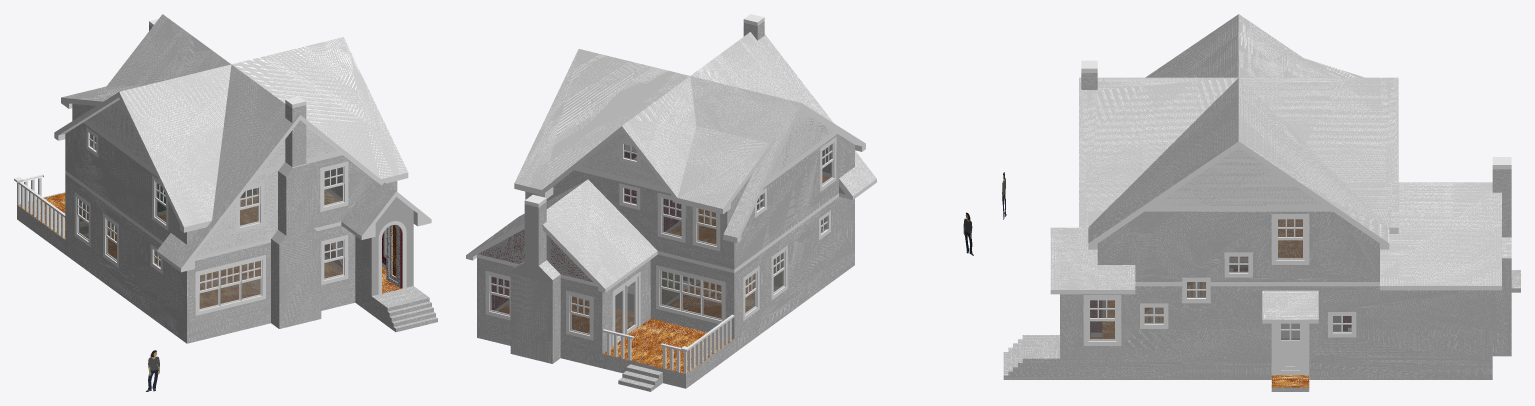
The model's file is Housei.dae.
3 renders of one model, left to right at view 1: azimuth 30°, elevation 25°; view 2: azimuth 150°, elevation 25°; view 3: azimuth 270°, elevation 25°, orthographic. The views are drawn at different scales.
Visible parts, largest first — view 1: group_23 (×9), group_0 (×7), group_17 (×2), group_13, group_28, group_21, group_9, group_24, group_1; view 2: group_23 (×11), group_0 (×7), group_15, group_3, group_2, group_5, group_33, group_4, group_6; view 3: group_23 (×7), group_0 (×5), group_22 (×2), group_35 (×2), group_12, group_10, group_25, group_20, group_14.
Boxes of the visible parts, x1=… form: group_23 (×9): x1=54, y1=14, x2=431, y2=272; group_0 (×7): x1=14, y1=174, x2=437, y2=343; group_17 (×2): x1=378, y1=221, x2=406, y2=294; group_13: x1=195, y1=266, x2=220, y2=315; group_28: x1=320, y1=161, x2=348, y2=211; group_21: x1=240, y1=255, x2=265, y2=304; group_9: x1=321, y1=235, x2=348, y2=285; group_24: x1=236, y1=182, x2=263, y2=232; group_1: x1=219, y1=261, x2=241, y2=309; group_23 (×11): x1=466, y1=32, x2=876, y2=292; group_0 (×7): x1=477, y1=196, x2=854, y2=391; group_15: x1=625, y1=271, x2=640, y2=334; group_3: x1=656, y1=265, x2=680, y2=314; group_2: x1=701, y1=276, x2=725, y2=323; group_5: x1=566, y1=290, x2=593, y2=340; group_33: x1=657, y1=192, x2=685, y2=242; group_4: x1=680, y1=271, x2=701, y2=319; group_6: x1=485, y1=271, x2=510, y2=320; group_23 (×7): x1=1050, y1=14, x2=1511, y2=294; group_0 (×5): x1=1003, y1=262, x2=1520, y2=391; group_22 (×2): x1=1083, y1=295, x2=1121, y2=345; group_35 (×2): x1=1271, y1=214, x2=1309, y2=264; group_12: x1=1271, y1=323, x2=1309, y2=375; group_10: x1=1140, y1=303, x2=1168, y2=328; group_25: x1=1224, y1=252, x2=1252, y2=277; group_20: x1=1182, y1=277, x2=1210, y2=303; group_14: x1=1328, y1=312, x2=1356, y2=337.
Size of the model in its own units: 534 by 662 by 360.
